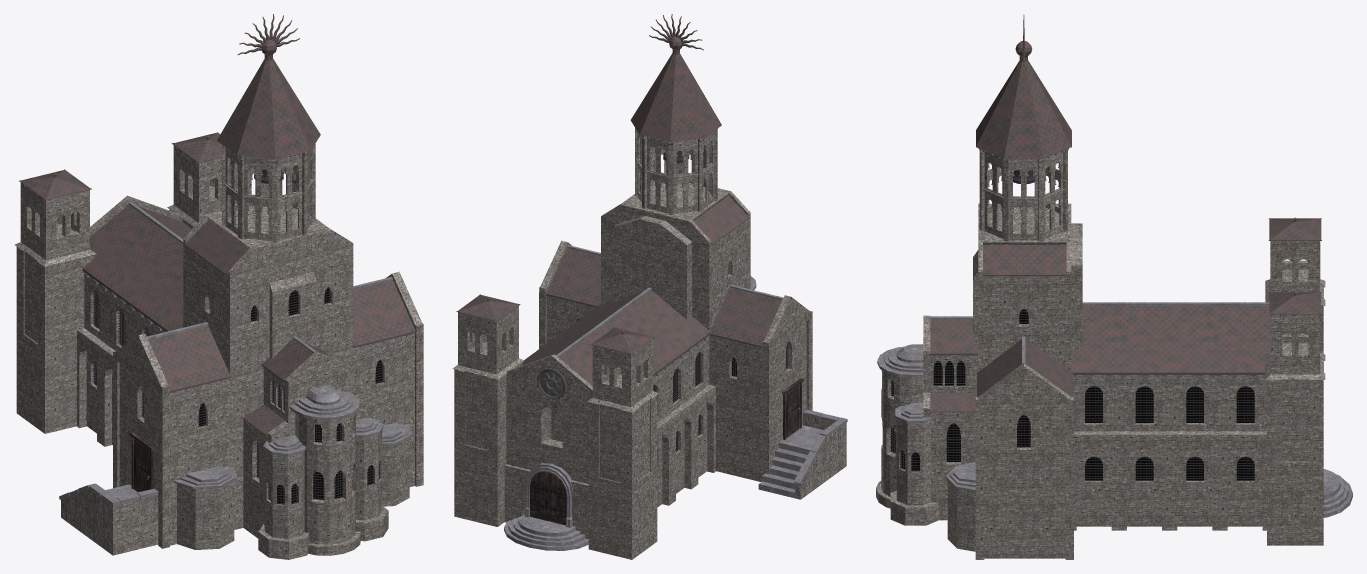
The model's file is church.glb.
3 views of the same model, side by side, from view 1: azimuth 30°, elevation 25°; view 2: azimuth 150°, elevation 25°; view 3: azimuth 270°, elevation 25° (orthographic). The views are drawn at different scales.
Parts seen in each view (by area): view 1: StoneBrickWalls, CopperRoof, StoneRoof, WindowBars, Windows, StoneBeams, SideDoor, SideStairs; view 2: StoneBrickWalls, CopperRoof, FrontDoor, SideStairs, StoneBeams, SideDoor, SunSymbol, WindowBars; view 3: StoneBrickWalls, CopperRoof, Windows, WindowBars, StoneRoof, StoneBeams, FrontDoor.
Boxes of the visible parts, x1,y1,x2,y2 form: StoneBrickWalls: (14, 143, 423, 559); CopperRoof: (19, 14, 415, 436); StoneRoof: (174, 384, 412, 488); WindowBars: (92, 287, 383, 504); Windows: (95, 287, 382, 504); StoneBeams: (22, 145, 409, 436); SideDoor: (129, 432, 154, 492); SideStairs: (59, 483, 158, 505); StoneBrickWalls: (452, 128, 846, 559); CopperRoof: (456, 14, 782, 385); FrontDoor: (504, 463, 588, 550); SideStairs: (758, 409, 847, 498); StoneBeams: (460, 126, 783, 375); SideDoor: (782, 378, 803, 439); SunSymbol: (537, 368, 566, 398); WindowBars: (576, 269, 788, 451); StoneBrickWalls: (876, 148, 1325, 559); CopperRoof: (930, 14, 1321, 412); Windows: (891, 309, 1254, 480); WindowBars: (890, 309, 1254, 480); StoneRoof: (877, 344, 975, 491); StoneBeams: (930, 150, 1316, 413); FrontDoor: (1323, 469, 1352, 517).
Bounding box in the file's own units: 12.41 × 18.77 × 16.92.
Materials: 12 (12 with a texture image).
